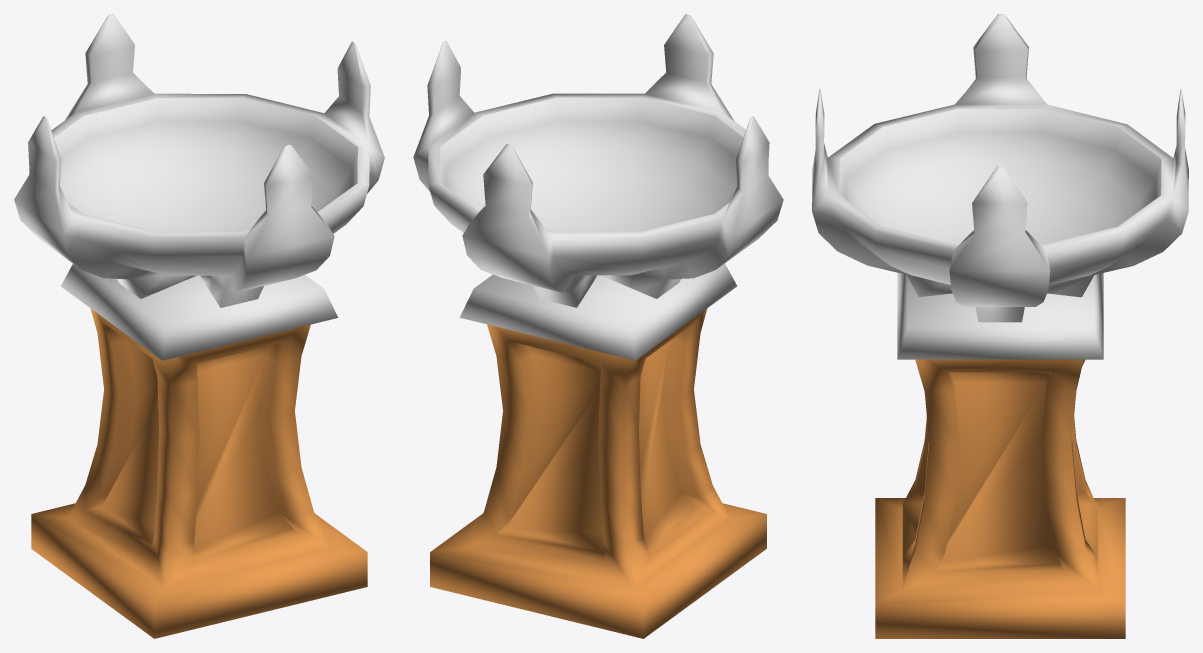
File: Brazier.fbx
3 renders of one model, left to right at view 1: azimuth 30°, elevation 25°; view 2: azimuth 150°, elevation 25°; view 3: azimuth 270°, elevation 25°, orthographic.
Visible parts, largest first — view 1: Cube.036; view 2: Cube.036; view 3: Cube.036.
Part boxes in pixels (box(x1,y1,x2,y2)): Cube.036: box(14, 14, 384, 638); Cube.036: box(413, 14, 783, 638); Cube.036: box(812, 14, 1188, 638).
Bounding box in the file's own units: 38.51 × 55.88 × 38.51.
